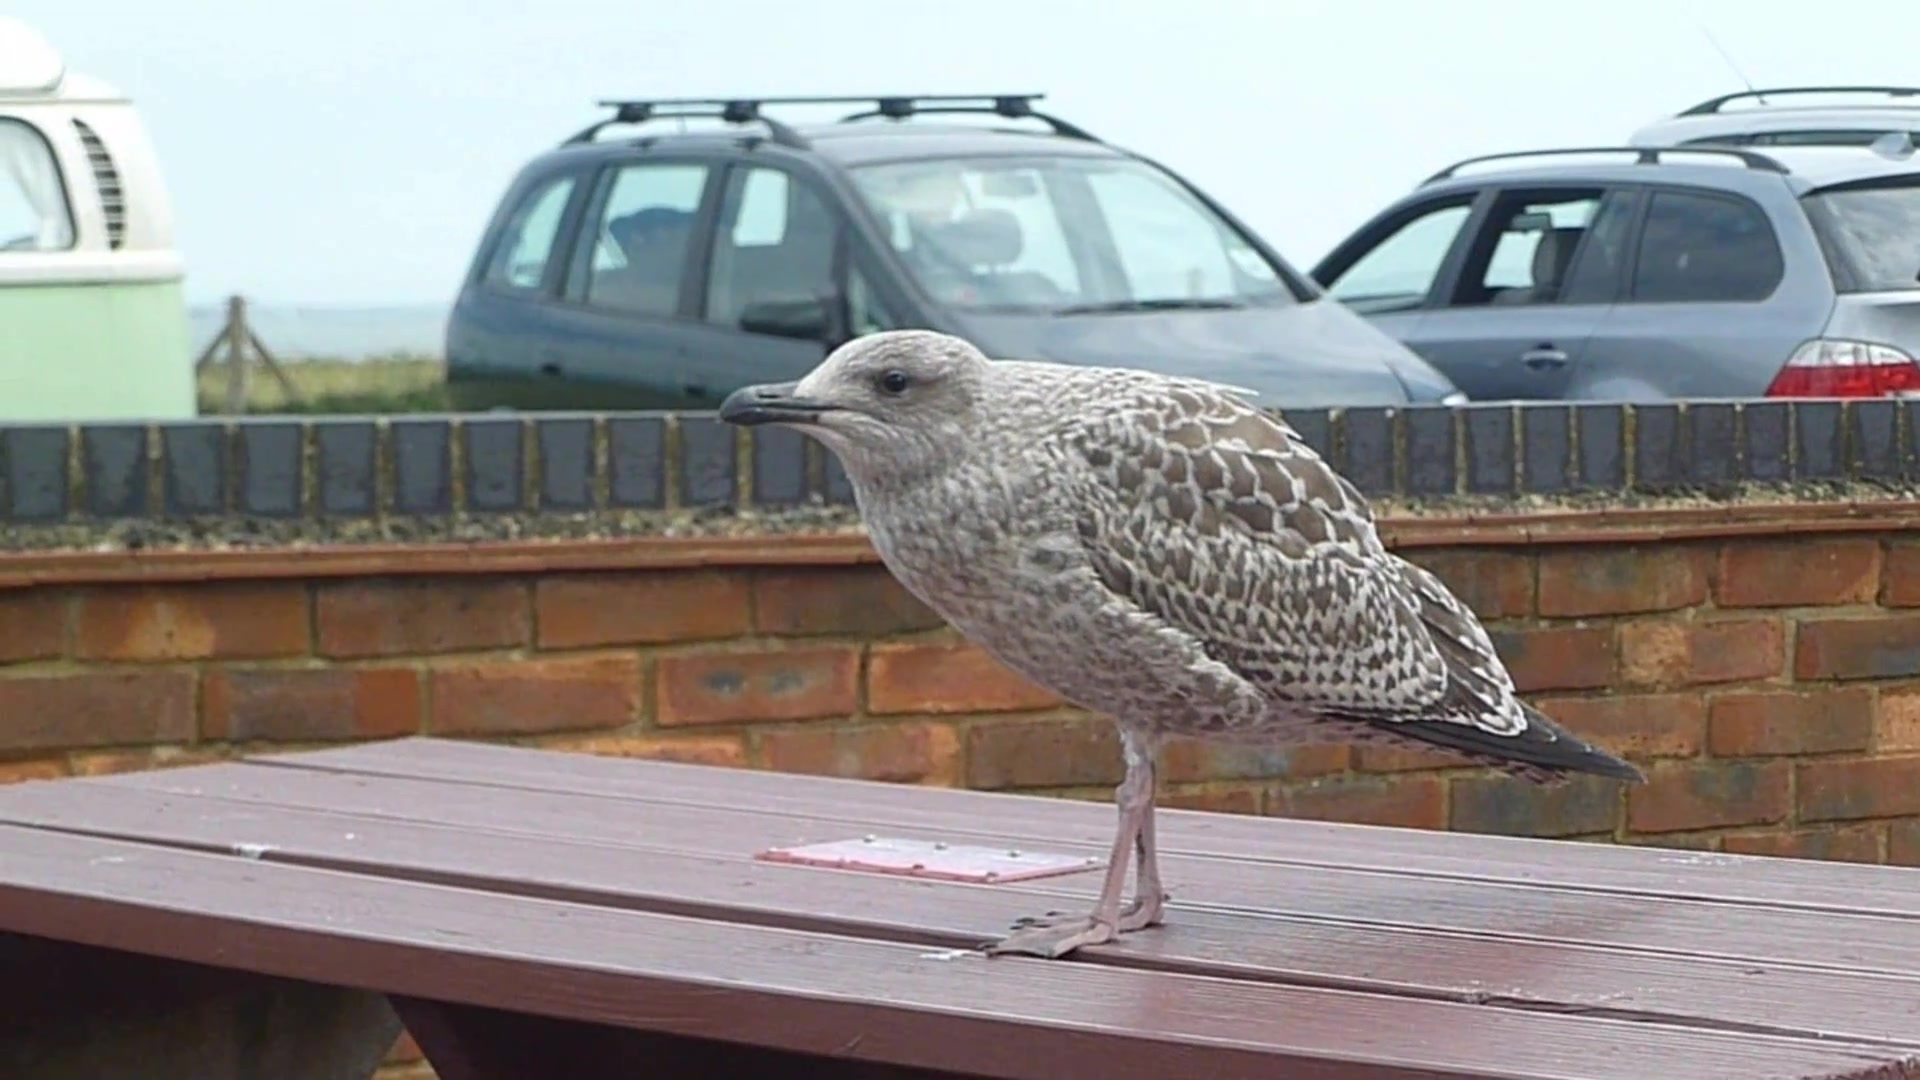bird: (716, 328, 1648, 963)
